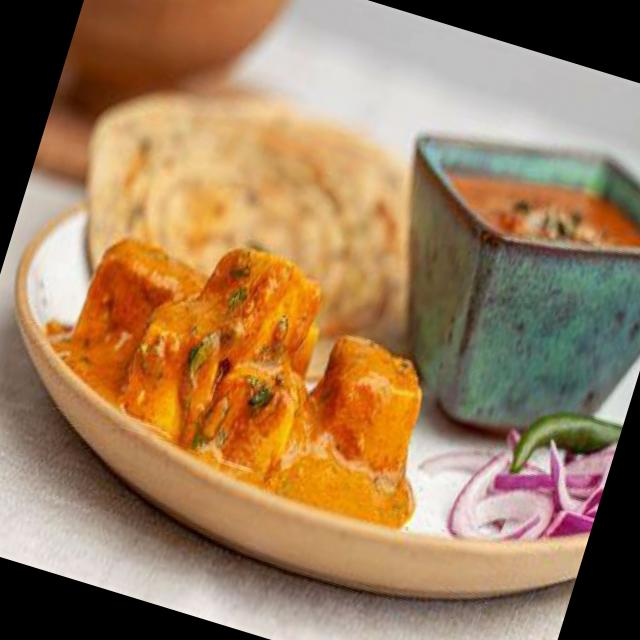ShahiPaneer: (18, 192, 472, 545), (423, 139, 640, 293)
